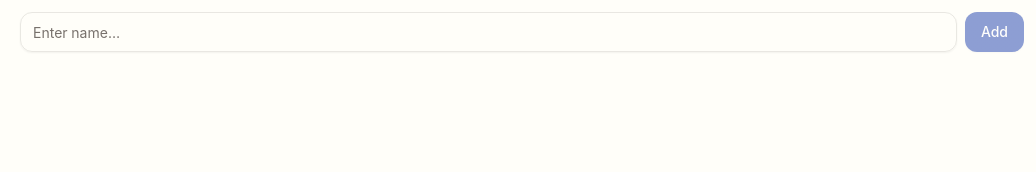
AddPersonForm › clears form after successful submission
Type "David" into the field with placeholder "Enter name…" at (488, 32), box [20,12,957,52]
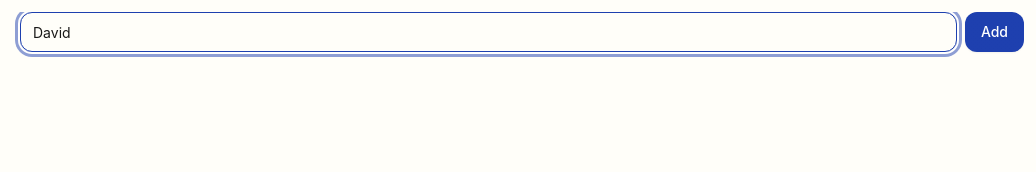
Click the button "Add" at (994, 32), box [965,12,1024,52]
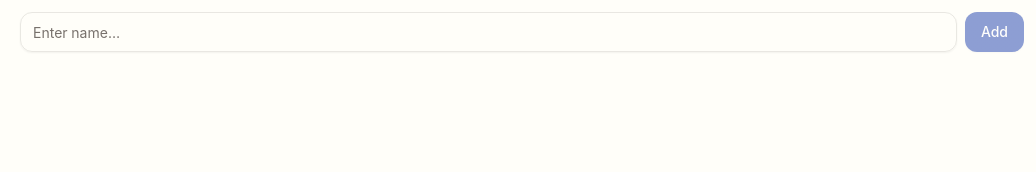
Expected: the field with placeholder "Enter name…" is empty, [20,12,957,52]
